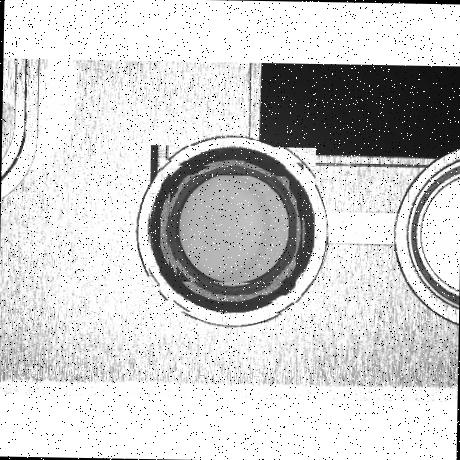Hole: (147, 144, 315, 314)
Hole2: (158, 160, 304, 302)
Hole3: (167, 165, 297, 295)
Hole4: (175, 174, 288, 284)
